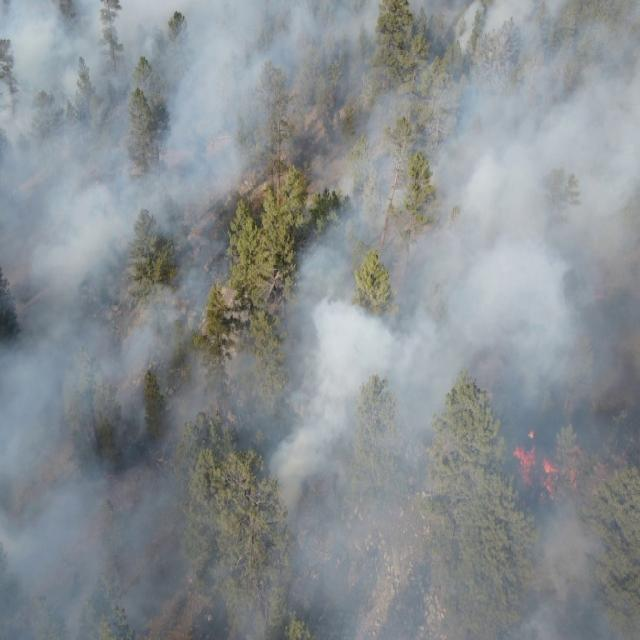fire: (510, 444, 593, 504), (526, 428, 538, 442)
smoke: (1, 0, 640, 640)
